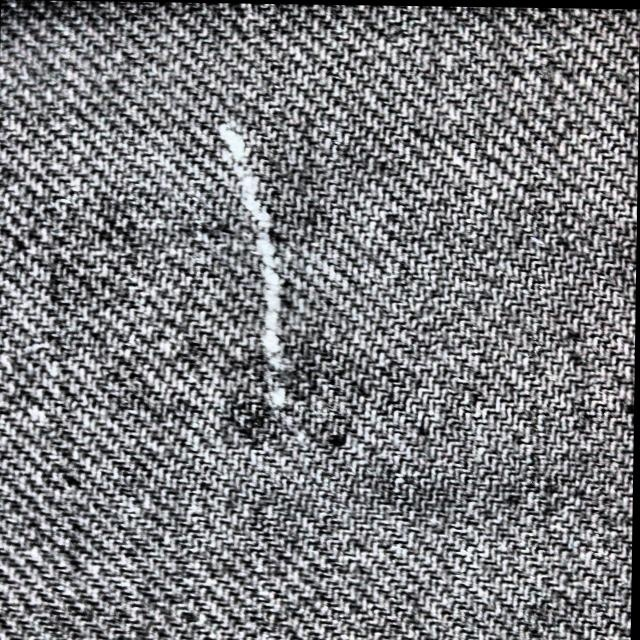Hole: (226, 123, 289, 355)
